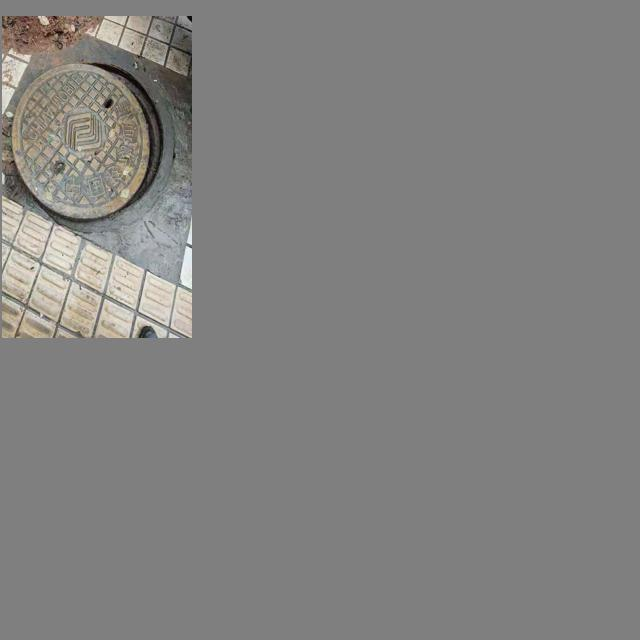uncovered: (13, 56, 175, 233)
